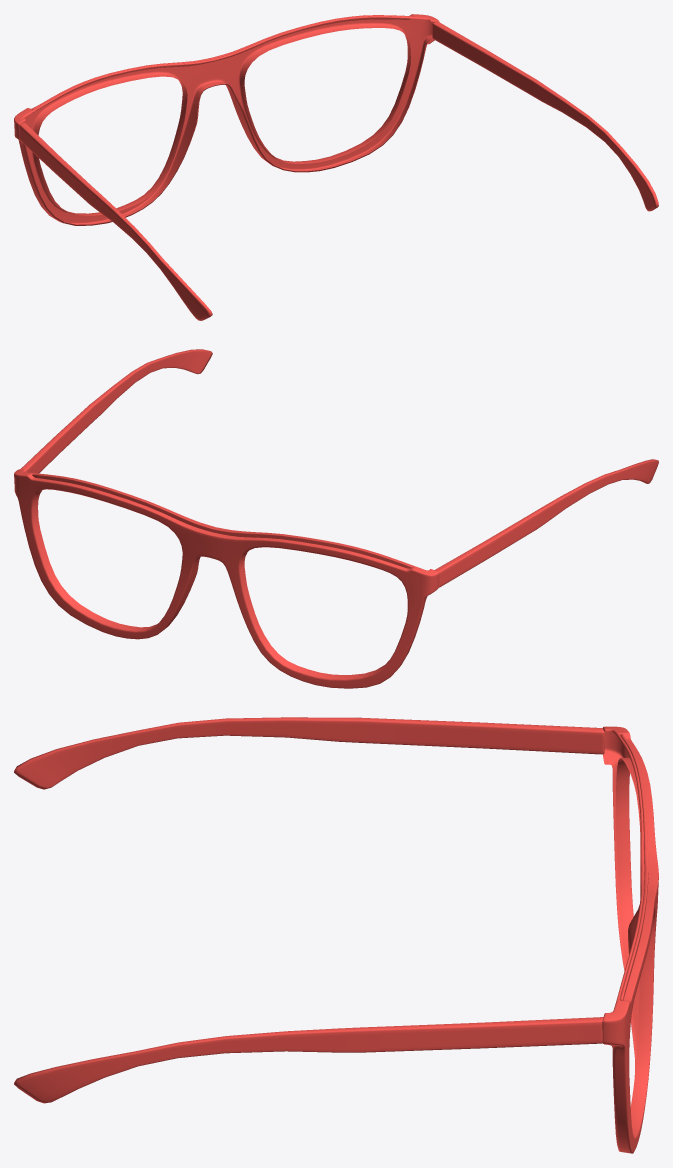
File: yellowglassesred.fbx
3 renders of one model, top to bottom at view 1: azimuth 30°, elevation 25°; view 2: azimuth 150°, elevation 25°; view 3: azimuth 270°, elevation 25°, orthographic. The views are drawn at different scales.
Visible parts, largest first — view 1: am_body; view 2: am_body; view 3: am_body.
Part boxes in pixels (x1,y1,x2,y2): am_body: (14, 14, 658, 320); am_body: (14, 349, 658, 688); am_body: (14, 717, 658, 1153).
Size of the model in its own units: 16.26 by 4.9 by 13.72.
